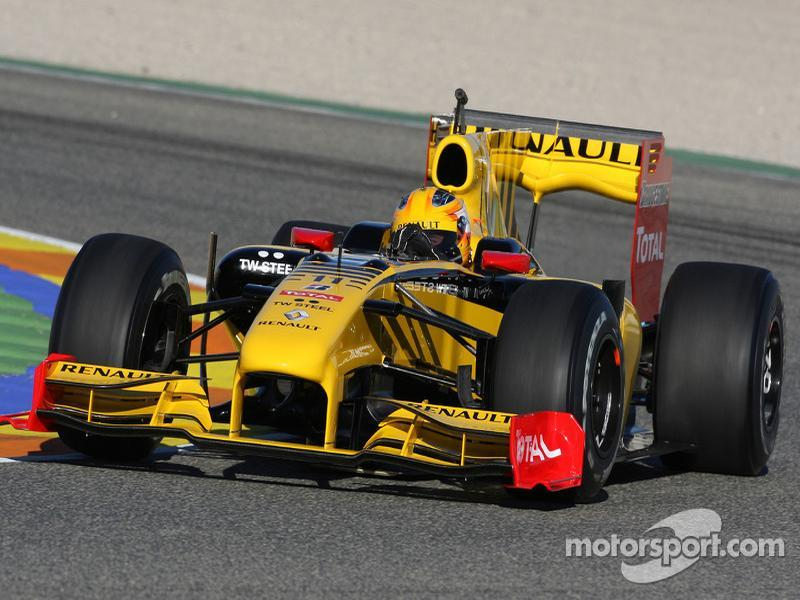f1: (39, 74, 786, 501)
